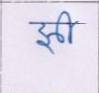i_matra: (60, 11, 77, 43)
